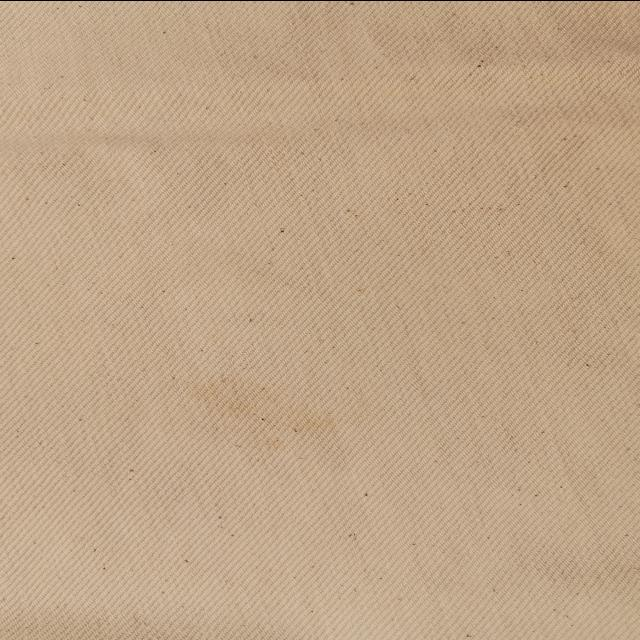taaaches: (160, 361, 346, 463)
